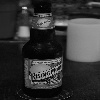beer: (24, 1, 69, 95)
